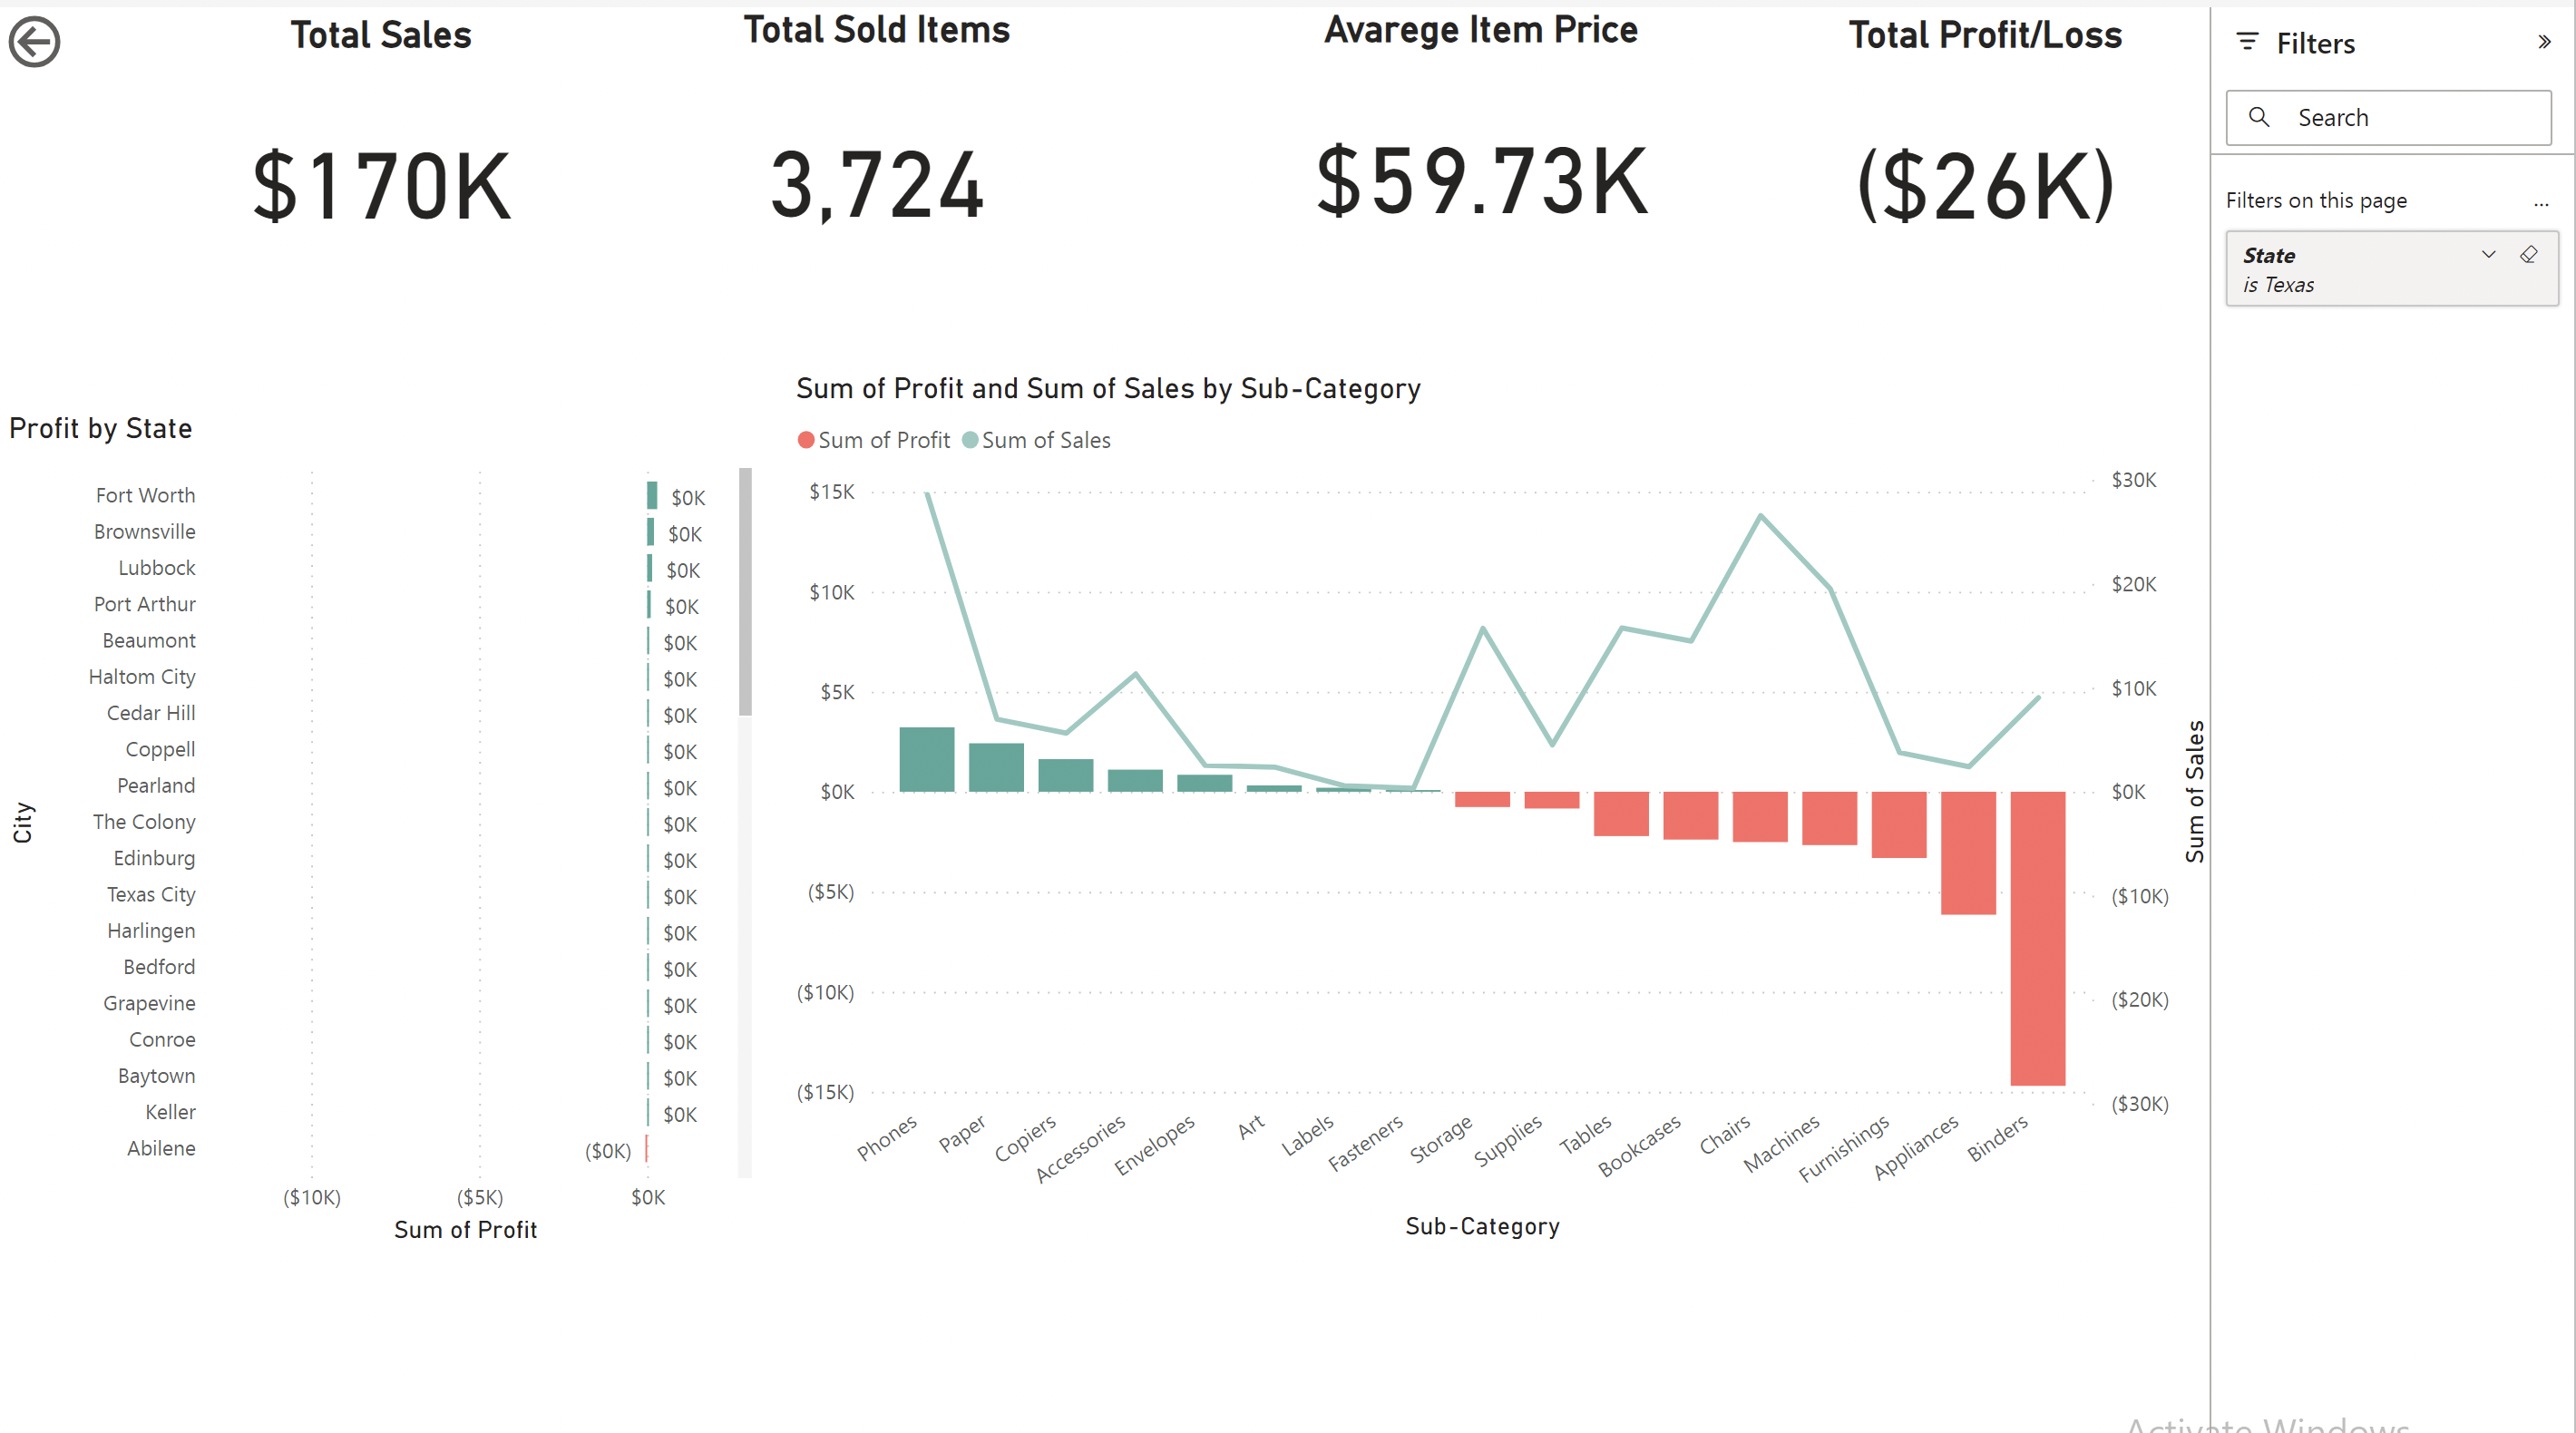

What the dashboard file says about the page in this screenshot:
{"tool":"powerbi","page":{"name":"Geographical Insights","canvas":[1280,720],"ordinal":4},"visuals":[{"type":"group","id":"g1","title":"Group 1","box":[0,0,1284.3,720.5],"z":0},{"type":"clusteredBarChart","title":"Profit by State","fields":{"Y":["Sum(SalesFact.Profit)"],"Category":["LocationDim.Country Hierarchy.City","LocationDim.Country Hierarchy.Postal Code"]},"box":[0,234.2,440.7,486.3],"z":0,"group":"g1"},{"type":"actionButton","box":[0,0,100,40],"z":1000},{"type":"card","title":"Total Profit/Loss","fields":{"Values":["Sum(SalesFact.Profit)"]},"box":[1020,3.4,260,162.7],"z":1000,"group":"g1"},{"type":"card","title":"Avarege Item Price","fields":{"Values":["Sum(SalesFact.Avg Item Price (after discount))"]},"box":[791.9,0,244.1,162],"z":2000},{"type":"lineClusteredColumnComboChart","fields":{"Category":["CategoryDim.Category Hierarchy.Category","CategoryDim.Category Hierarchy.Sub-Category"],"Y2":["Sum(SalesFact.Sales)"],"Y":["Sum(SalesFact.Profit)"]},"box":[456.4,211.1,827.5,507.5],"z":2000,"group":"g1"},{"type":"card","title":"State","fields":{"Values":["Min(LocationDim.State)"]},"box":[35.7,0,300.2,132.8],"z":3000},{"type":"card","title":"Total Sales","fields":{"Values":["Sum(SalesFact.Sales)"]},"box":[336.8,0,239.8,162],"z":3000,"group":"g1"},{"type":"card","title":"Total Sold Items","fields":{"Values":["Sum(SalesFact.Quantity)"]},"box":[563.8,0,228.1,166.3],"z":4000,"group":"g1"}]}

Visuals, with their boxes on the page's 1280x720 design canvas (x1, y1, x2, y2). These are canvas units, not pixel positions in the 2576x1433 screenshot, which may show the page scaled, cropped or inside an application window:
"Group 1" group: x1=0 y1=0 x2=1284 y2=720
"Profit by State" clusteredBarChart: x1=0 y1=234 x2=441 y2=720
actionButton: x1=0 y1=0 x2=100 y2=40
"Total Profit/Loss" card: x1=1020 y1=3 x2=1280 y2=166
"Avarege Item Price" card: x1=792 y1=0 x2=1036 y2=162
lineClusteredColumnComboChart - CategoryDim.Category Hierarchy.Category x CategoryDim.Category Hierarchy.Sub-Category: x1=456 y1=211 x2=1284 y2=719
"State" card: x1=36 y1=0 x2=336 y2=133
"Total Sales" card: x1=337 y1=0 x2=577 y2=162
"Total Sold Items" card: x1=564 y1=0 x2=792 y2=166
